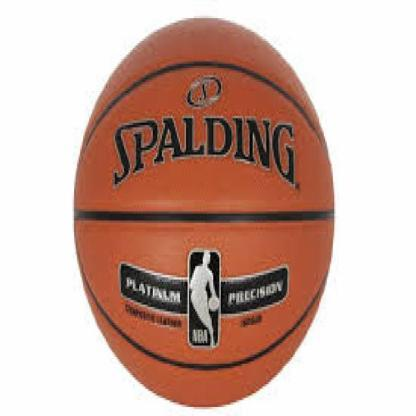basketball: (75, 20, 334, 404)
